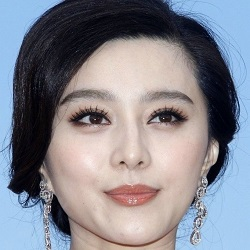unmask: (43, 74, 207, 244)
